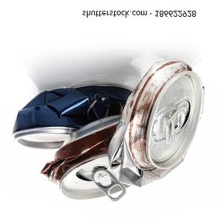can: (105, 52, 207, 188), (38, 112, 144, 210), (9, 82, 126, 154)
